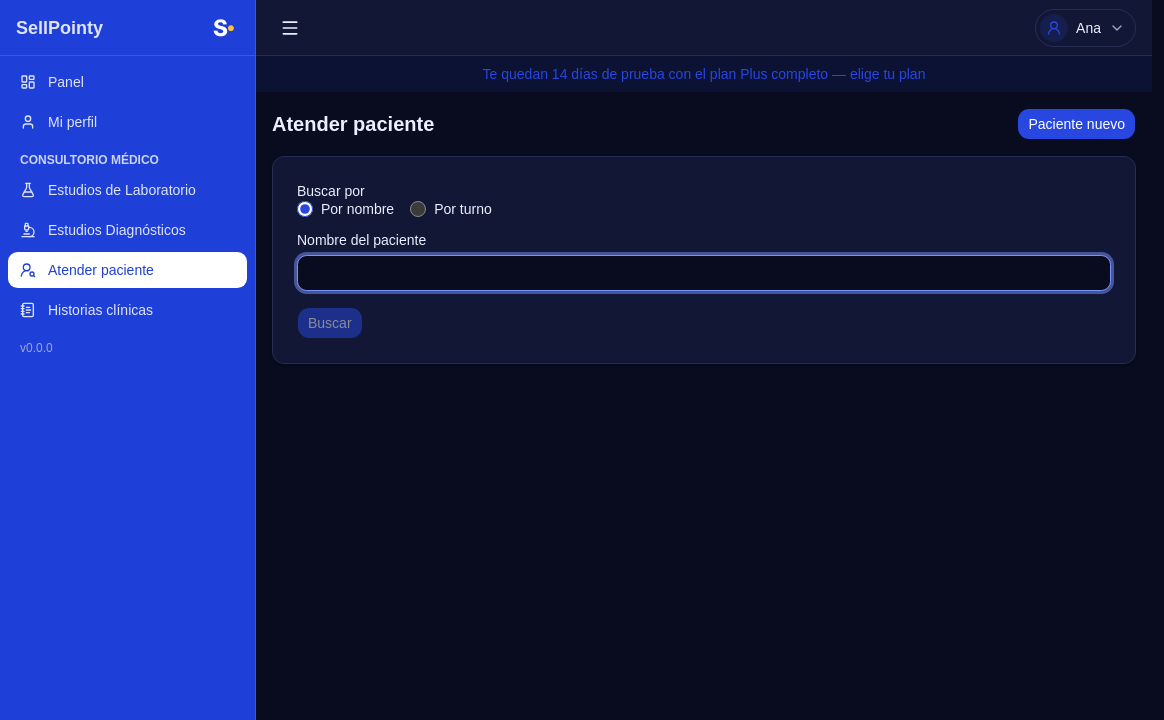
Atender paciente (F9-CLINIC-WEB-07) › no consulta al montar; por nombre lista los aciertos con edad y última consulta
Expected: the heading "Atender paciente" is shown, [272, 110, 434, 138]
Type "rosa" into the field labelled "Nombre del paciente" at (704, 273), box [297, 255, 1111, 291]
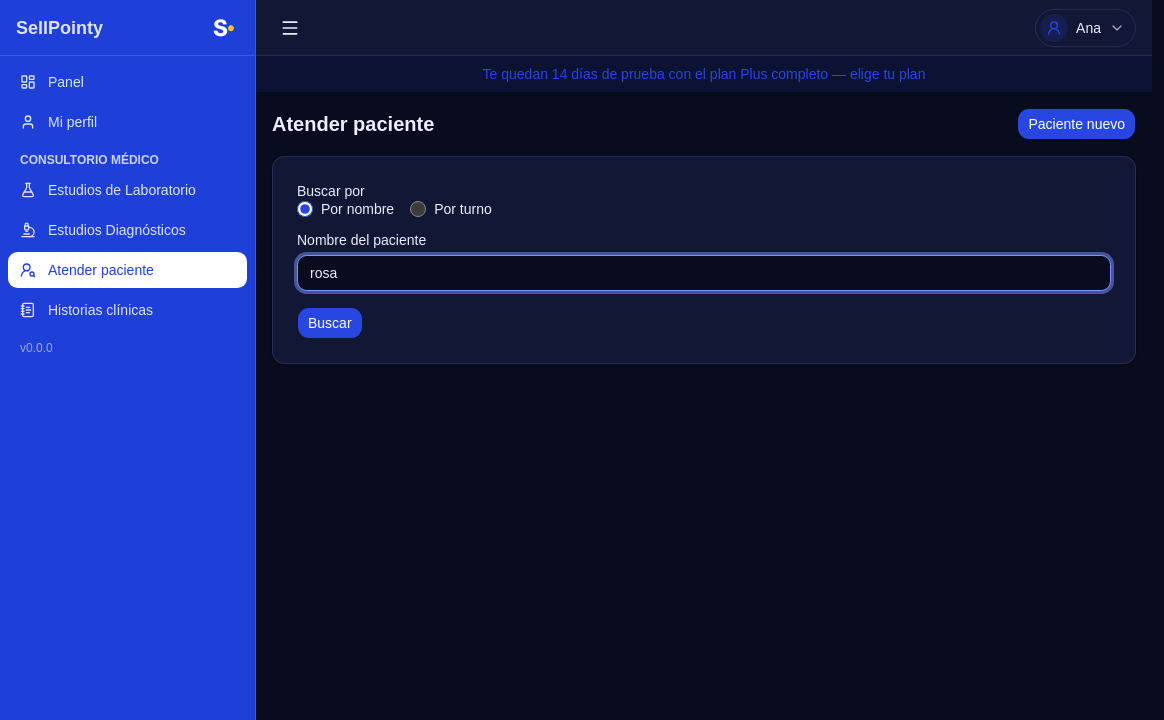
Click the button "Buscar" at (330, 323), box [297, 307, 363, 339]
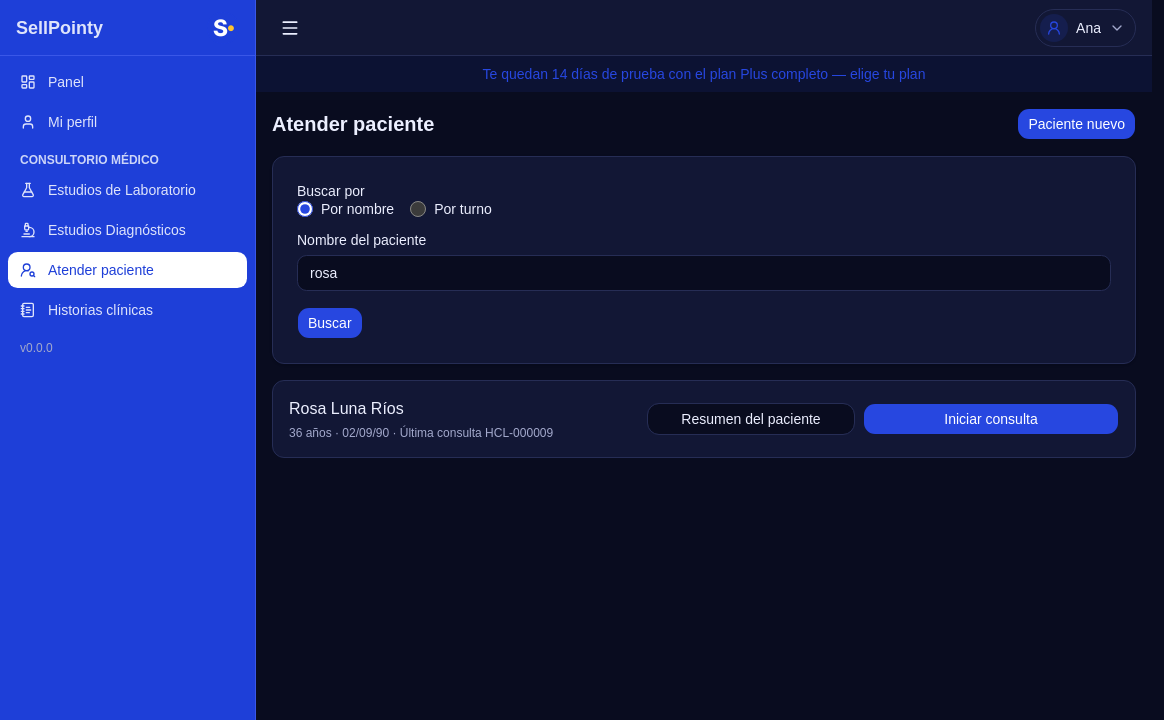
Now the list item with test id "patient-c1" shows "Rosa Luna Ríos", box [289, 400, 404, 417]
Now the list item with test id "patient-c1" shows "36 años", box [289, 426, 553, 440]
Now the list item with test id "patient-c1" shows "Última consulta HCL-000009", box [289, 426, 553, 440]
